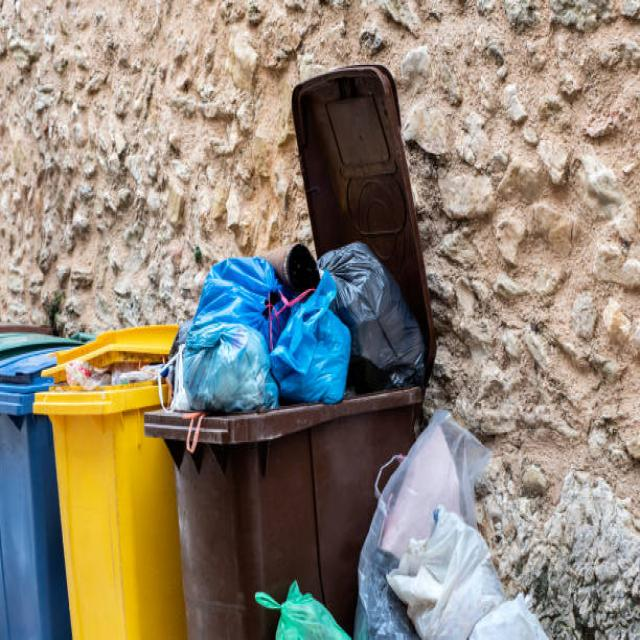trash: (46, 252, 397, 426), (270, 438, 485, 631)
